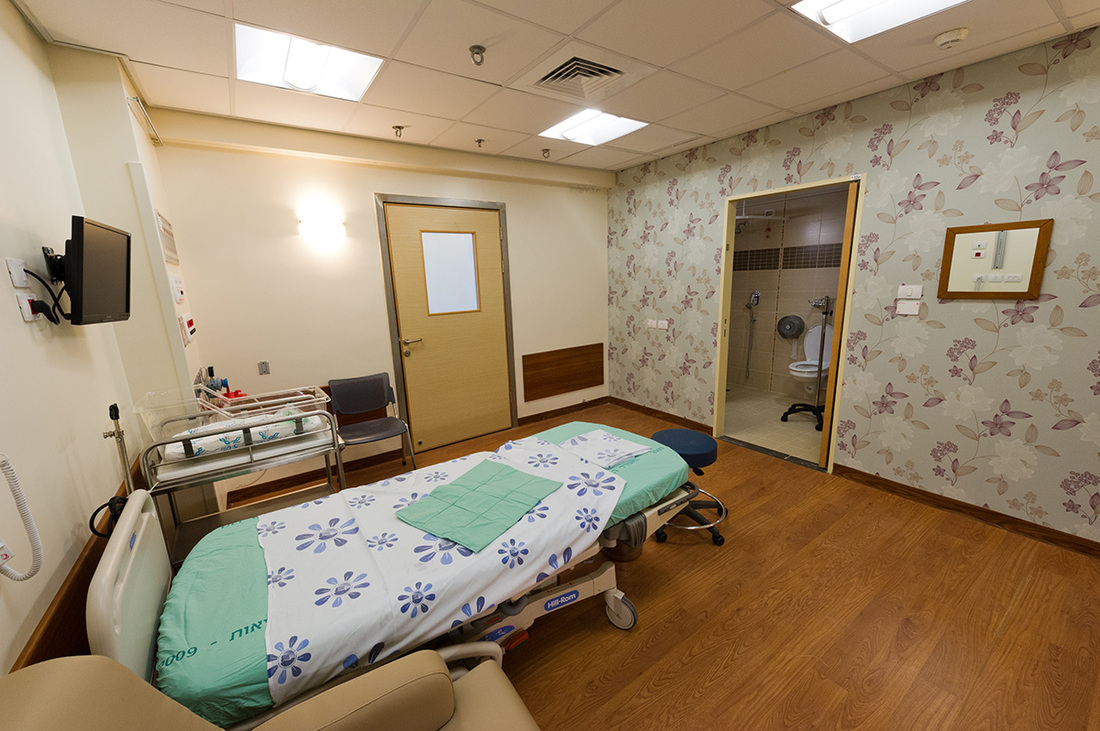hospital bed: (140, 410, 678, 717)
